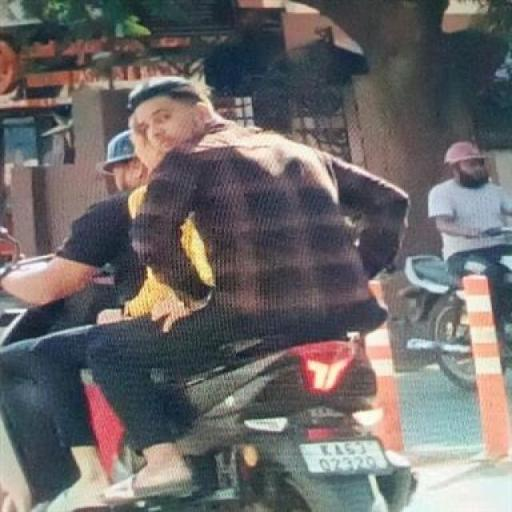tripple riding: (3, 72, 413, 354)
